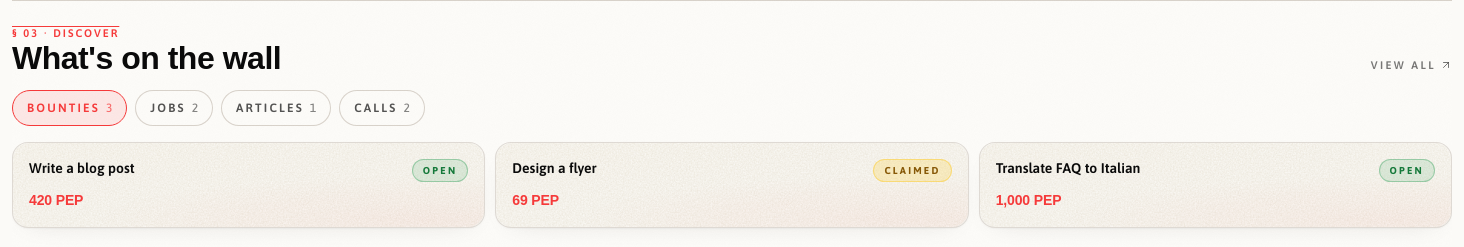
Test: <Discover /> › switches to the Articles tab and links to the article slug
What coordinates should you click on to do the following:
click the tab "Articles 1"
I would click on:
 (276, 108)
Its box is [221, 90, 331, 126].
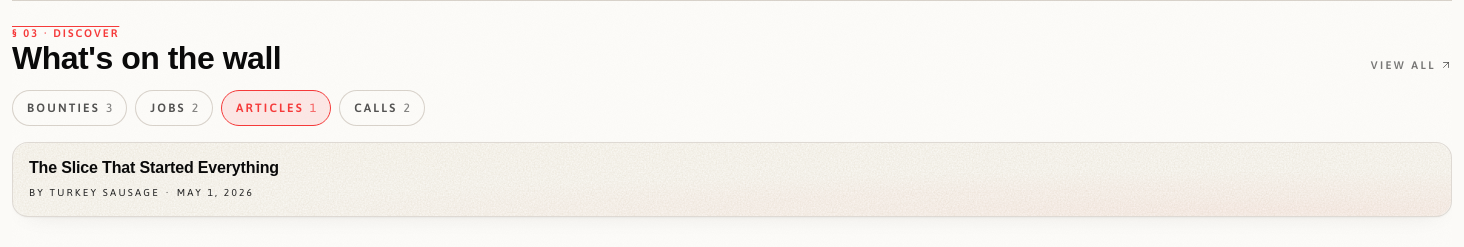
Expected: the text "by Turkey Sausage" is shown, [29, 185, 160, 200]
